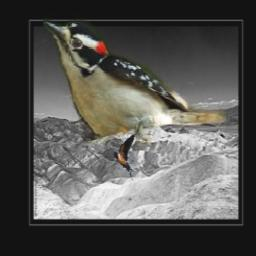Swallow: (112, 132, 136, 180)
Woodpecker: (43, 13, 225, 147)
